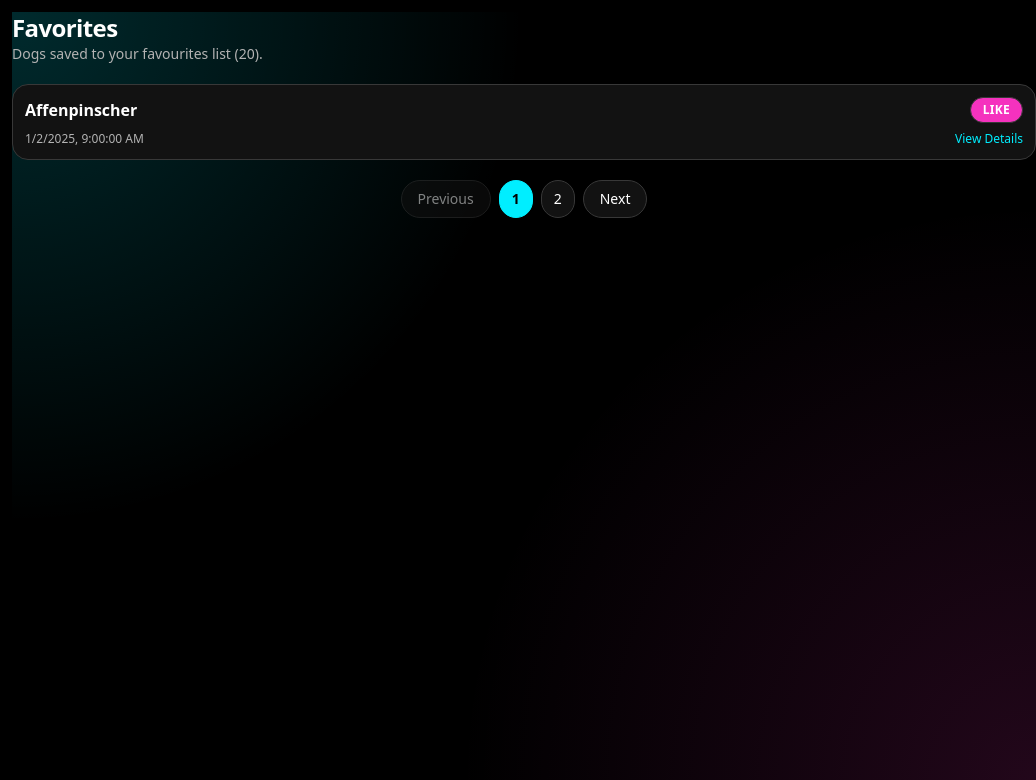
Test: FavoritesPage › moves to next page when clicking next
Expected: the text "Affenpinscher" is shown, 25,98 -> 137,122
Click the button "Next" at {"x": 615, "y": 199}, box 583,180 -> 647,218
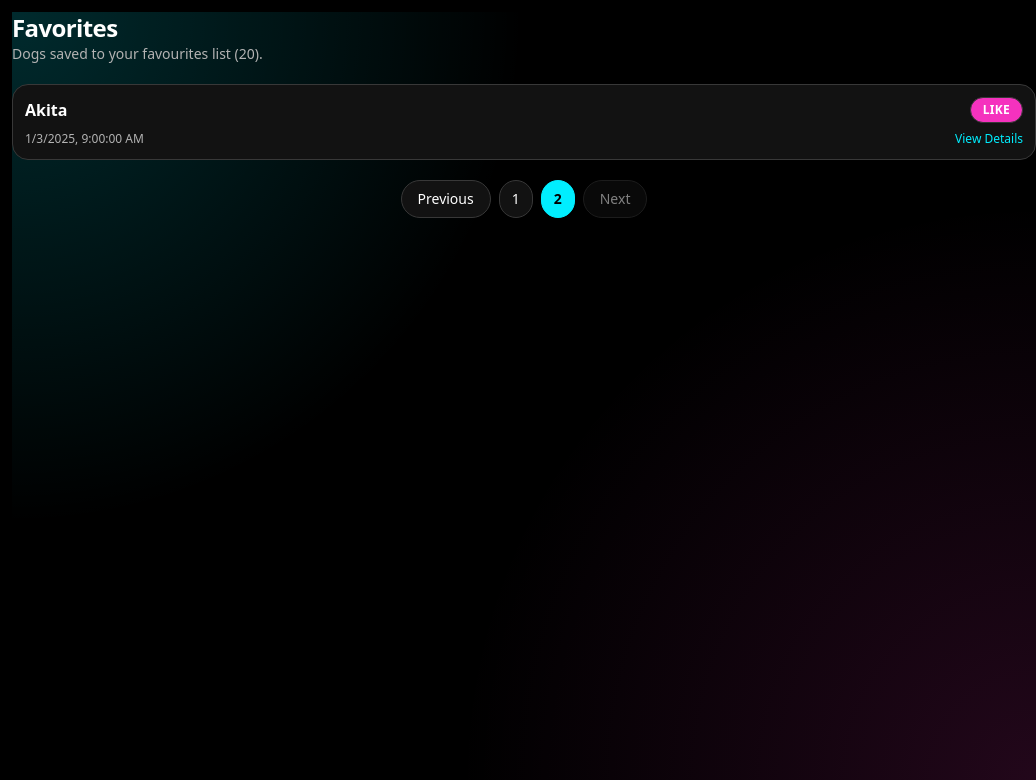
Expected: the text "Akita" is shown, 25,98 -> 68,122
